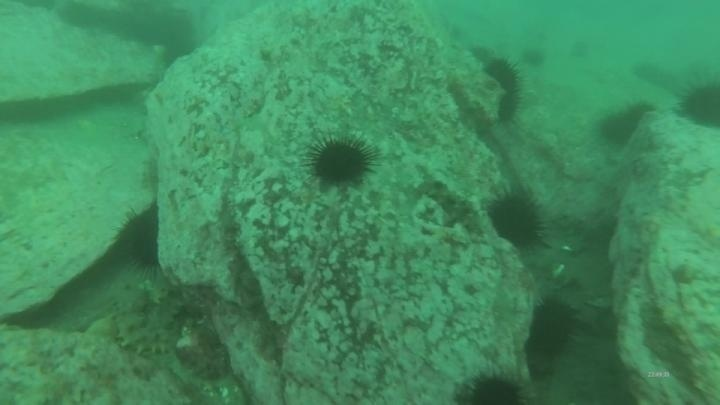echinus: (306, 134, 377, 190), (485, 188, 548, 251), (114, 204, 164, 273), (527, 296, 580, 358), (458, 371, 527, 404), (677, 79, 720, 130), (609, 99, 656, 136), (482, 56, 522, 93), (597, 111, 638, 147), (494, 90, 523, 124), (521, 46, 547, 70), (468, 43, 495, 66), (568, 38, 593, 61)
holothurian: (109, 306, 176, 359), (138, 146, 163, 204)
